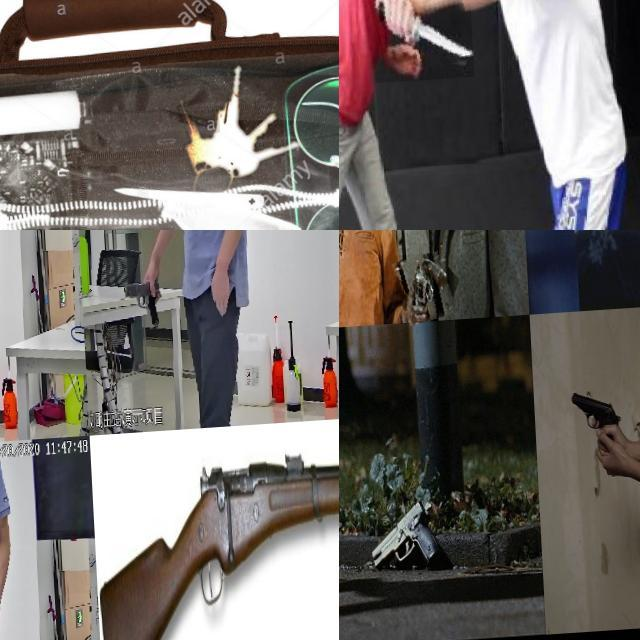-: (366, 0, 470, 86)
gun-knife-thesis - v11 Yolov5 augmented: (89, 439, 339, 640), (361, 501, 434, 576), (564, 388, 617, 482), (391, 255, 448, 327), (120, 279, 160, 336), (0, 514, 26, 576), (0, 230, 15, 277)
